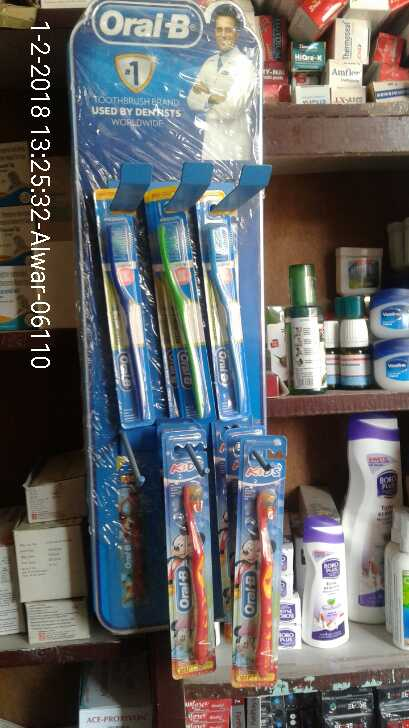oralb: (149, 184, 212, 418), (98, 189, 158, 423), (160, 430, 217, 674), (196, 192, 254, 416), (237, 441, 278, 688)
